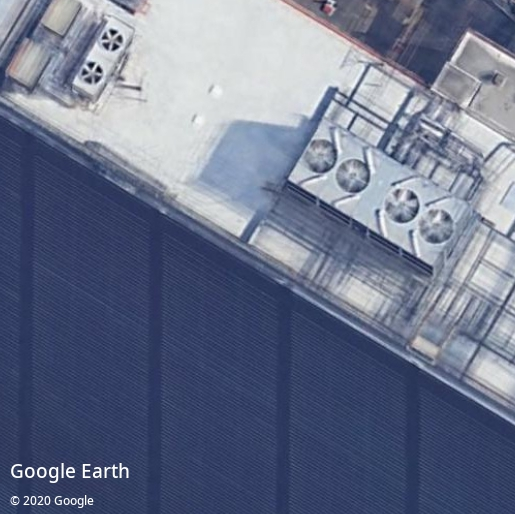Vent: (385, 188, 420, 224), (419, 209, 454, 244), (304, 139, 338, 174), (336, 159, 370, 193), (100, 27, 123, 52), (80, 61, 104, 84)
